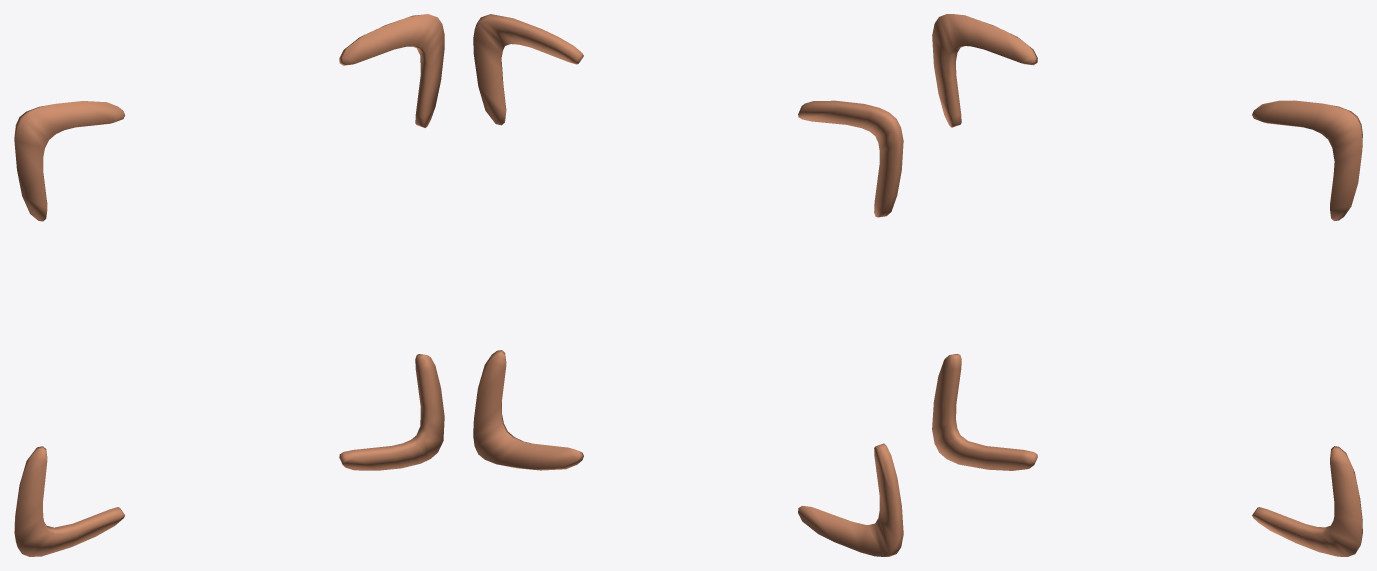
File: TargetCross.fbx
The picture shows the model from 3 angles, left to right: view 1: azimuth 30°, elevation 25°; view 2: azimuth 150°, elevation 25°; view 3: azimuth 330°, elevation 25°; orthographic projection.
Parts seen in each view (by area): view 1: Cube_001; view 2: Cube_001; view 3: Cube_001.
Part boxes in pixels (x1,y1,x2,y2): Cube_001: (14, 14, 444, 556); Cube_001: (473, 14, 903, 556); Cube_001: (932, 14, 1362, 556).
Size of the model in its own units: 1.71 by 1.7 by 0.0757.
